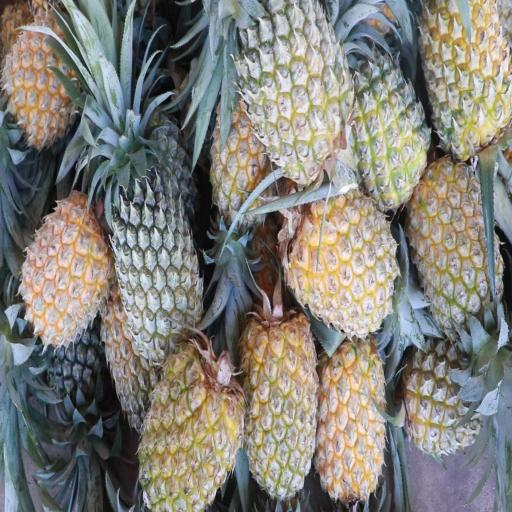------------------------------: (240, 0, 346, 175), (410, 164, 501, 320), (424, 0, 511, 151), (400, 340, 482, 454)
Pineapple - v8 v1: (138, 343, 247, 512), (290, 185, 392, 333), (243, 310, 317, 496), (21, 202, 109, 345), (350, 60, 425, 200), (315, 342, 380, 498), (6, 18, 88, 140), (211, 82, 274, 225)
